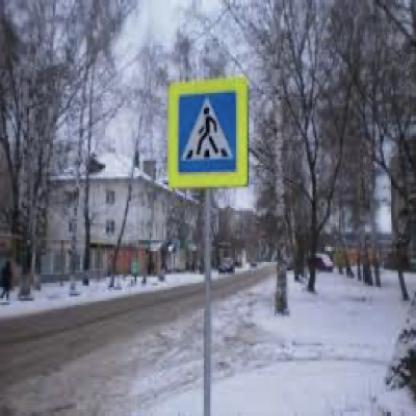crosswalk: (176, 93, 236, 172)
